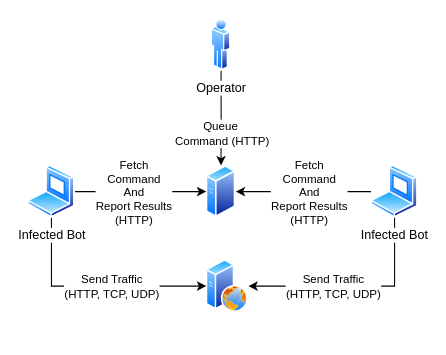
Image size: 446x355. Some labels were removed from this diagram. Here are the shapes that lost their labels. From the top down, the centre of each, then its label:
pixel 220 191: C2 server
pixel 227 285: Target Server
